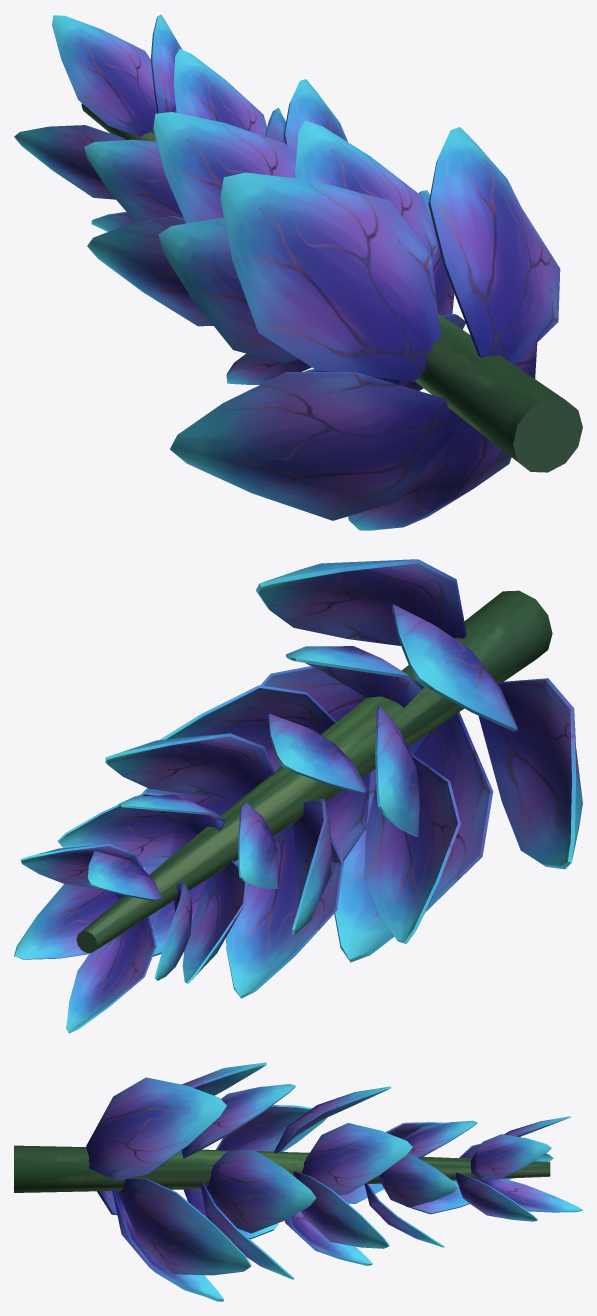
Rendered from Initial_Item_Flower Specimen 2_Ver1.fbx.
3 views of the same model, one above another, from view 1: azimuth 30°, elevation 25°; view 2: azimuth 150°, elevation 25°; view 3: azimuth 270°, elevation 25° (orthographic). The views are drawn at different scales.
Parts seen in each view (by area): view 1: upright, Cylinder.001; view 2: upright, Cylinder.001; view 3: upright, Cylinder.001.
Boxes of the visible parts, box(x1,y1,x2,y2) form: upright: box(14, 14, 560, 530); Cylinder.001: box(81, 103, 582, 472); upright: box(14, 559, 582, 1033); Cylinder.001: box(76, 590, 552, 952); upright: box(86, 1062, 582, 1301); Cylinder.001: box(14, 1145, 550, 1192).
Bounding box in the file's own units: 201 × 195 × 444.
Materials: 2 (2 with a texture image).
